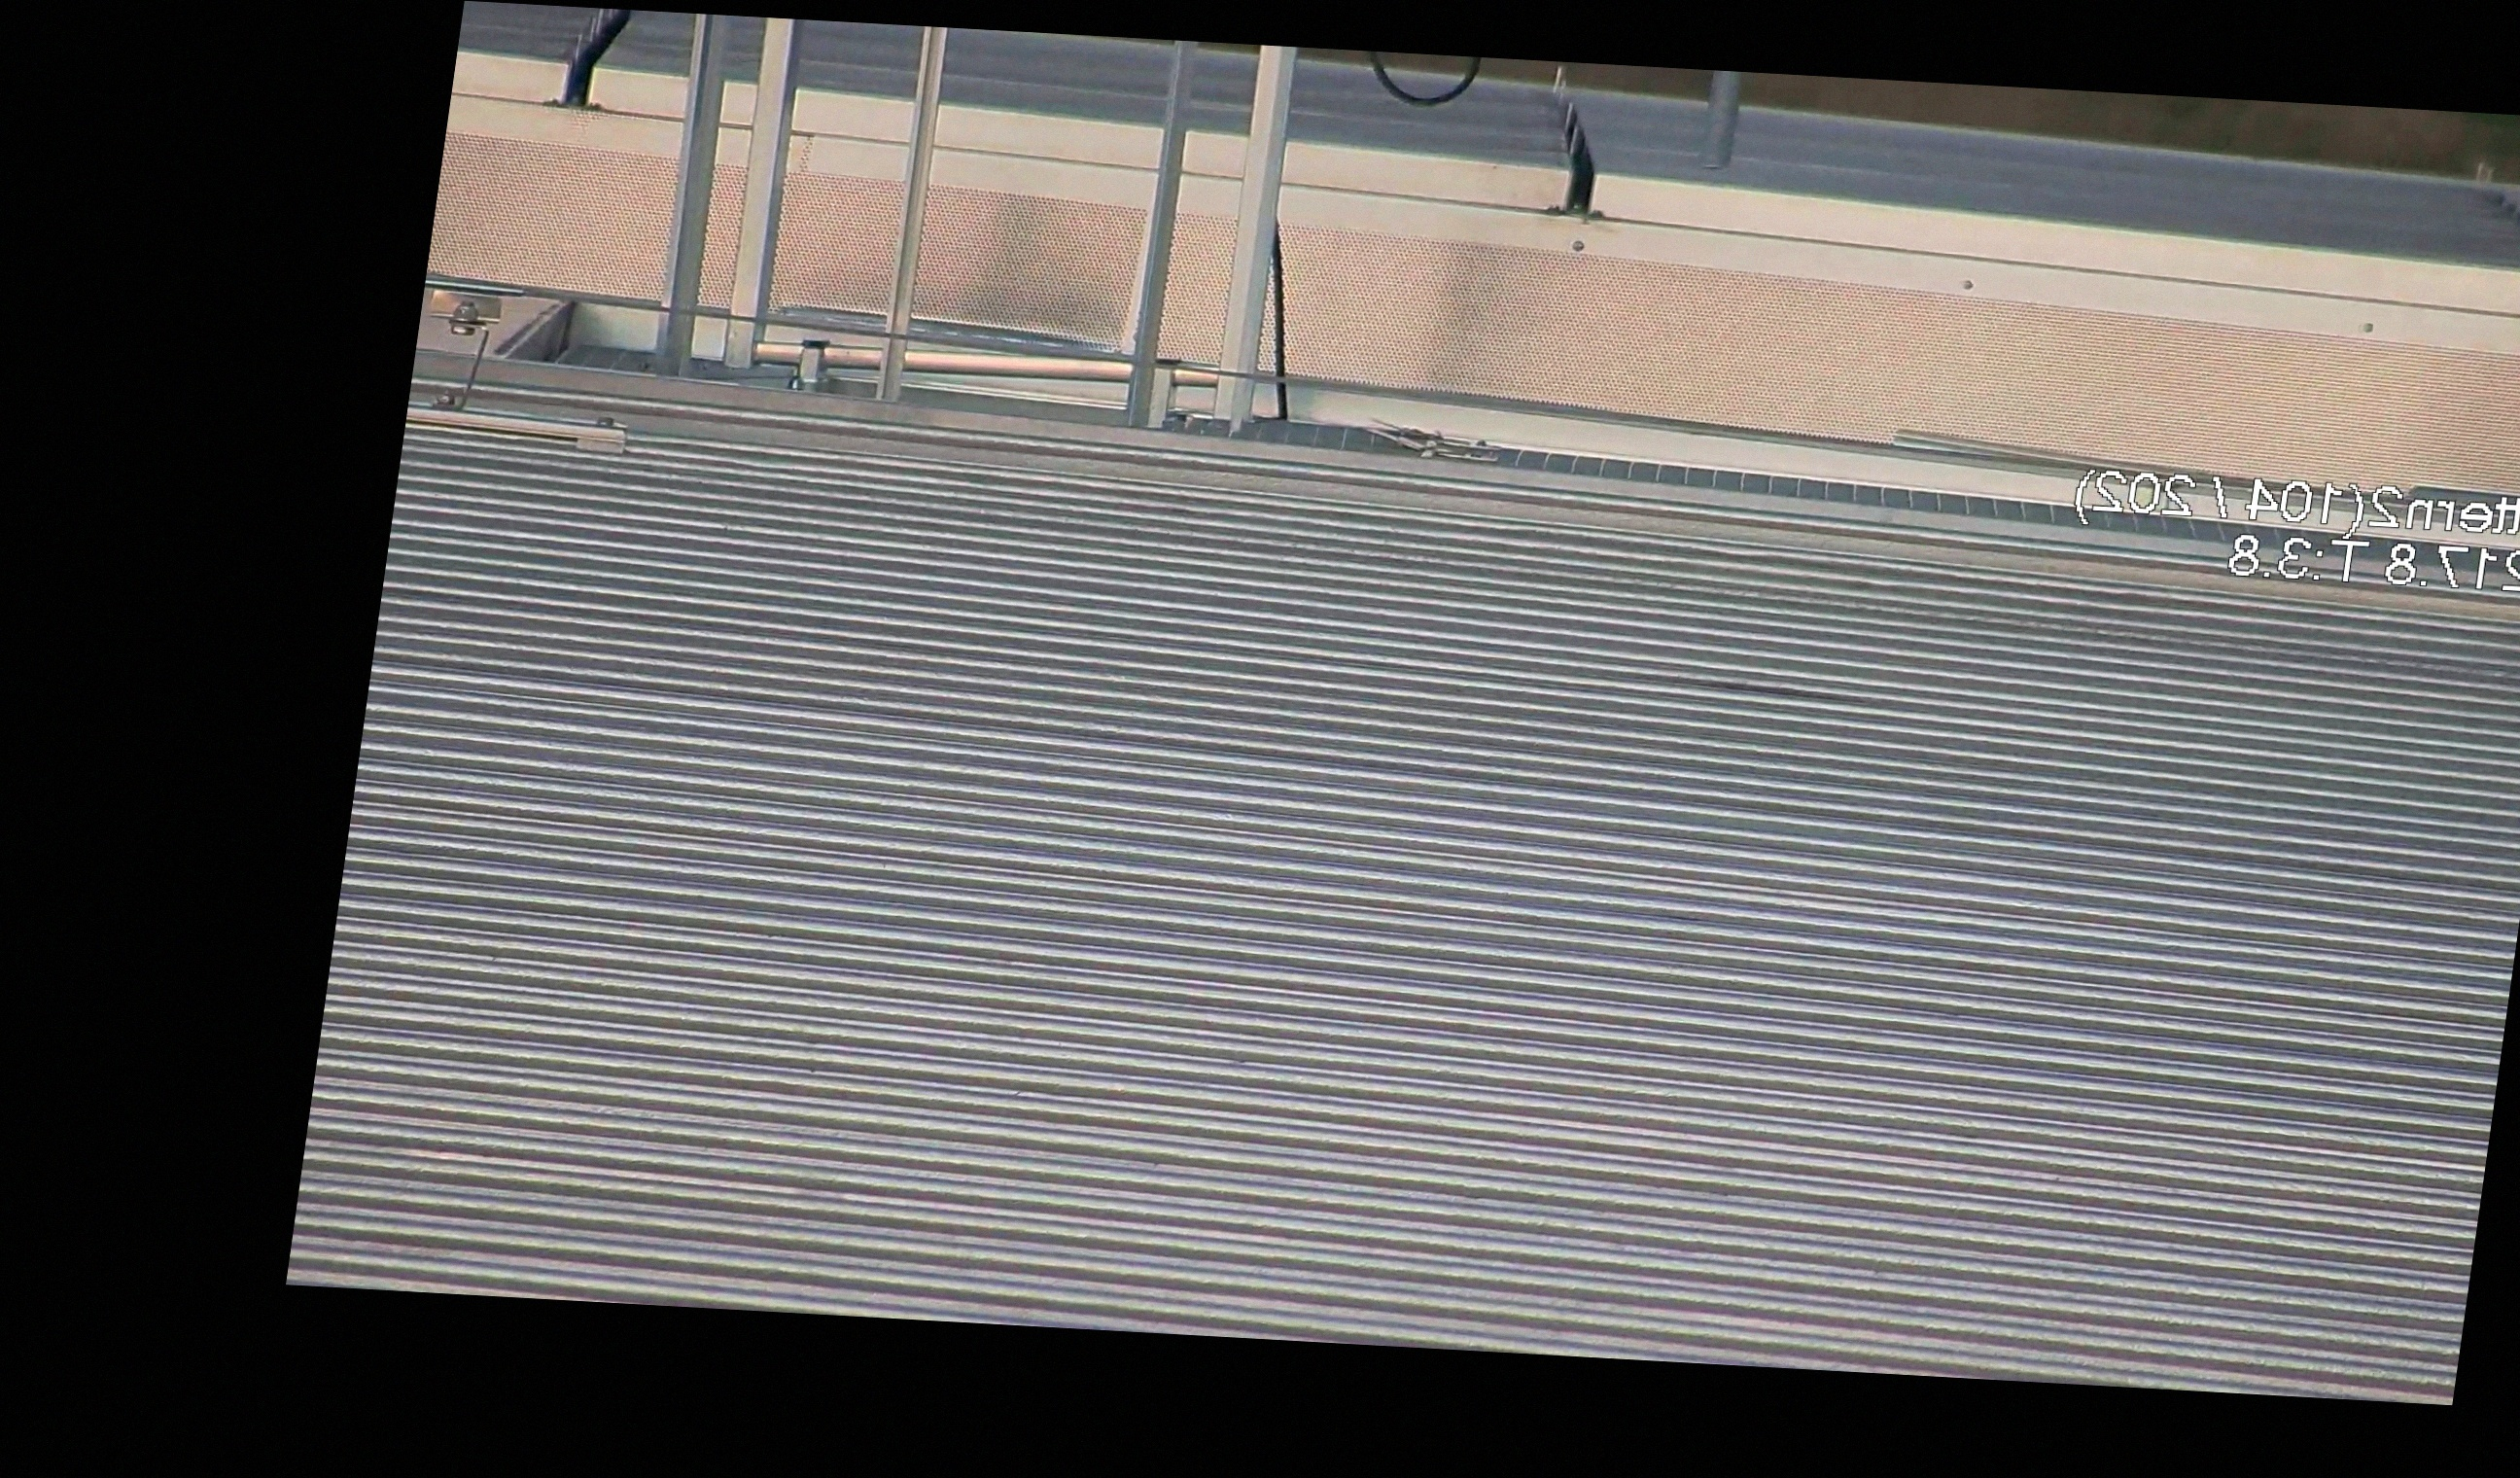Other: (531, 0, 647, 125)
